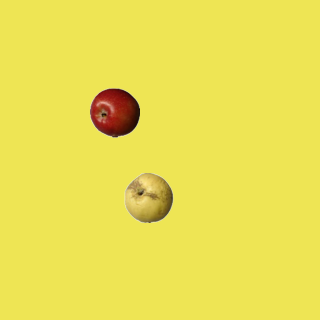Apple Braeburn: (89, 87, 139, 137)
Apple Golden 1: (123, 172, 173, 222)
